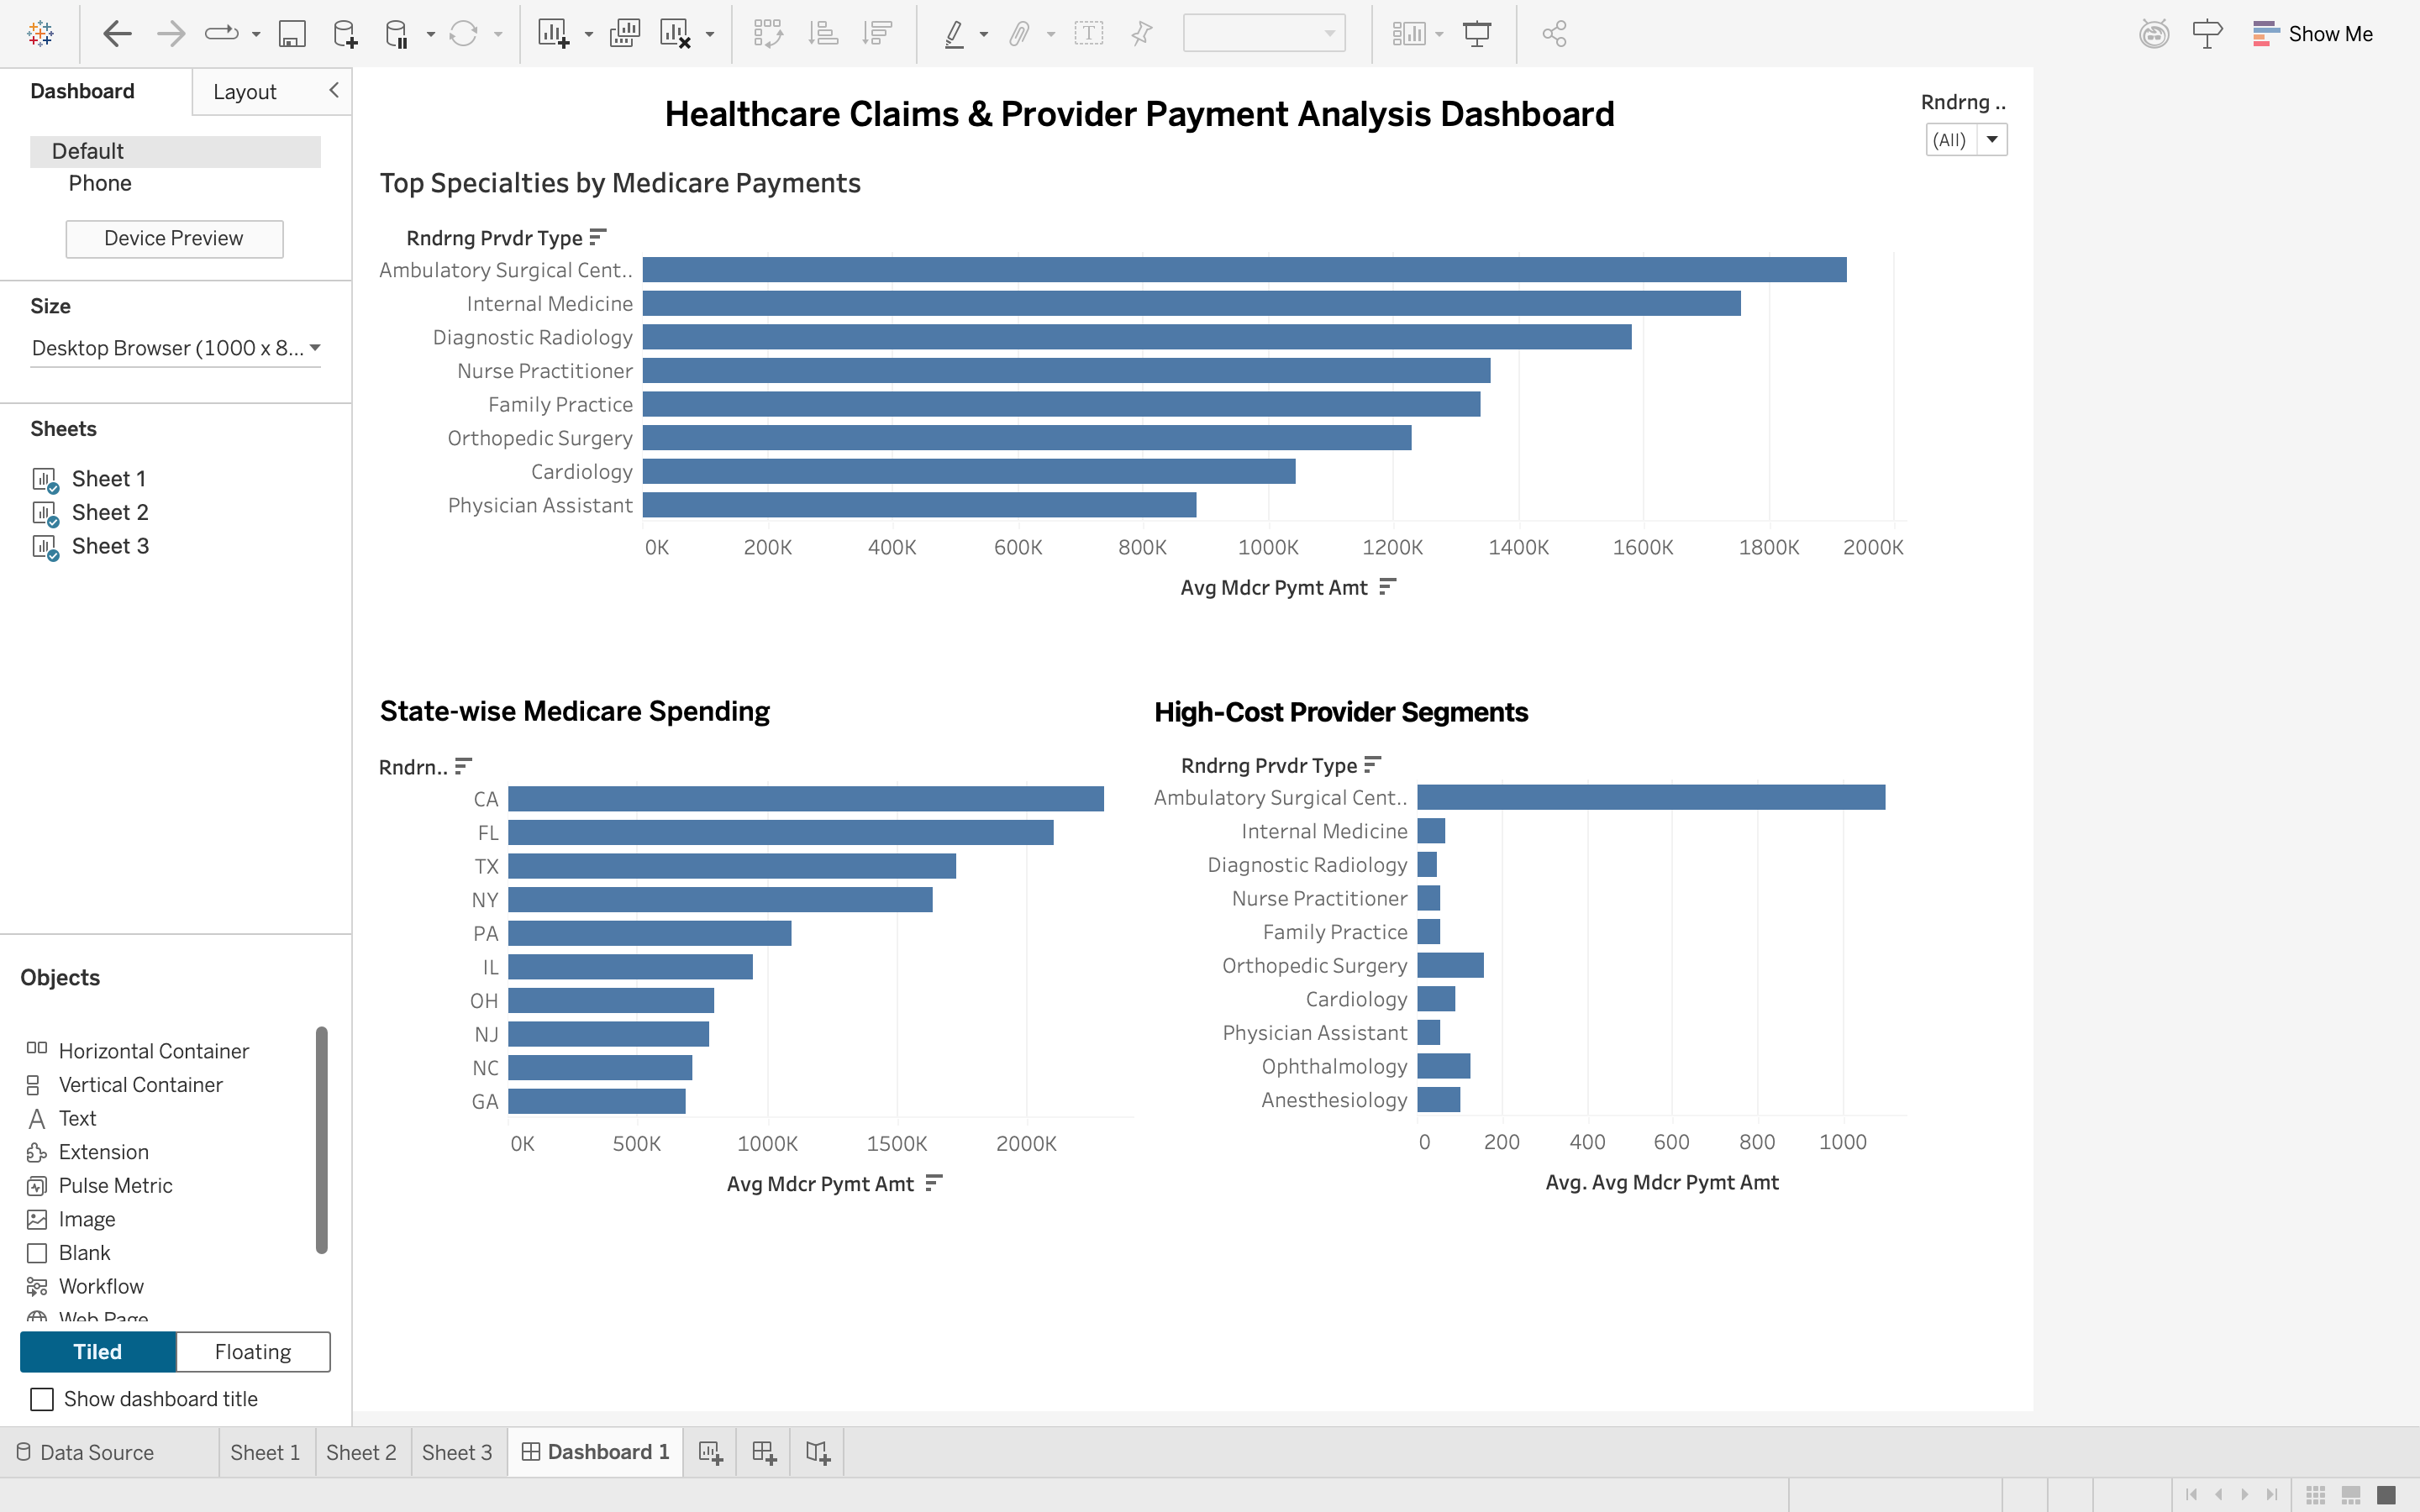

Layout of this report page (visuals, bound fields, positions):
{"tool":"tableau","page":{"name":"Dashboard 1","canvas":[1000,800],"ordinal":0},"visuals":[{"type":"text","box":[8,8,952,41]},{"type":"filter","title":"Sheet 2","param":"[federated.1lnagfv1mrbg1n0zjhzs00gadyq1].[none:Rndrng_Prvdr_State_Abrvtn:nk]","box":[960,8,32,145]},{"type":"worksheet","title":"Sheet 1","mark":"Bar","rows":["Rndrng_Prvdr_Type"],"cols":["Avg_Mdcr_Pymt_Amt"],"box":[8,49,952,317]},{"type":"worksheet","title":"Sheet 2","mark":"Automatic","rows":["Rndrng_Prvdr_State_Abrvtn"],"cols":["Avg_Mdcr_Pymt_Amt"],"box":[8,366,476,426]},{"type":"worksheet","title":"Sheet 3","mark":"Automatic","rows":["Rndrng_Prvdr_Type"],"cols":["Avg_Mdcr_Pymt_Amt"],"box":[484,366,476,426]}]}

Visuals, with their boxes on the page's 1000x800 design canvas (x1, y1, x2, y2). These are canvas units, not pixel positions in the 2420x1512 screenshot, which may show the page scaled, cropped or inside an application window:
text: locate(8, 8, 960, 49)
"Sheet 2" filter: locate(960, 8, 992, 153)
"Sheet 1" worksheet (Bar marks): locate(8, 49, 960, 366)
"Sheet 2" worksheet: locate(8, 366, 484, 792)
"Sheet 3" worksheet: locate(484, 366, 960, 792)
